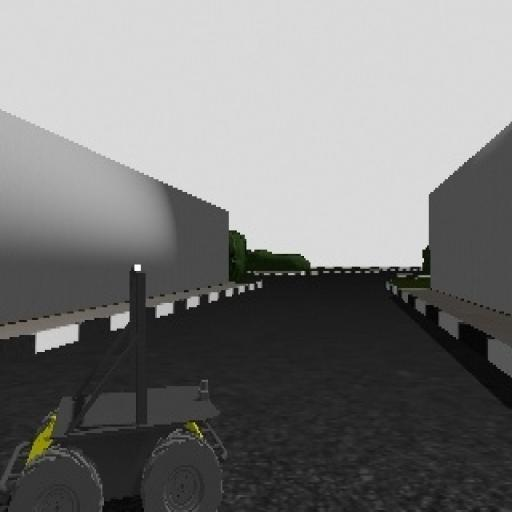huskya200: (3, 262, 234, 512)
